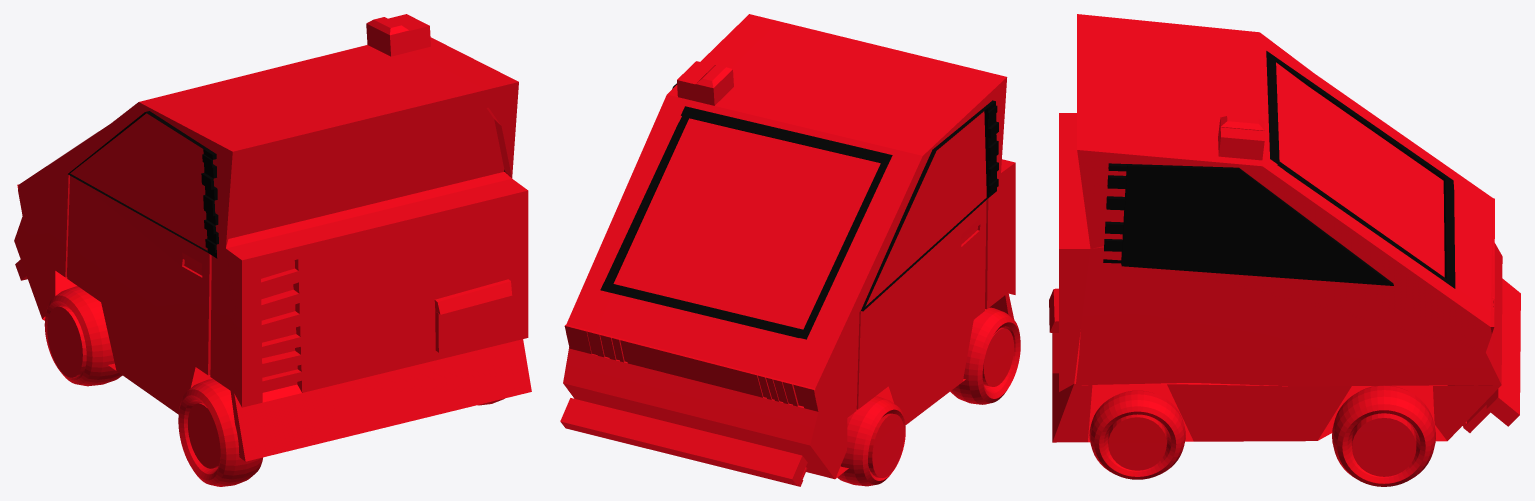
The picture shows the model from 3 angles, left to right: view 1: azimuth 30°, elevation 25°; view 2: azimuth 150°, elevation 25°; view 3: azimuth 270°, elevation 25°; orthographic projection. The views are drawn at different scales.
Visible parts, largest first — view 1: Cube.001; view 2: Cube.001; view 3: Cube.001.
Part boxes in pixels (x1,y1,x2,y2): Cube.001: (14,14,531,486); Cube.001: (560,14,1020,486); Cube.001: (1049,14,1520,486).
Bounding box in the file's own units: 6.32 × 6.82 × 8.34.
Materials: 4 (4 with a texture image).
